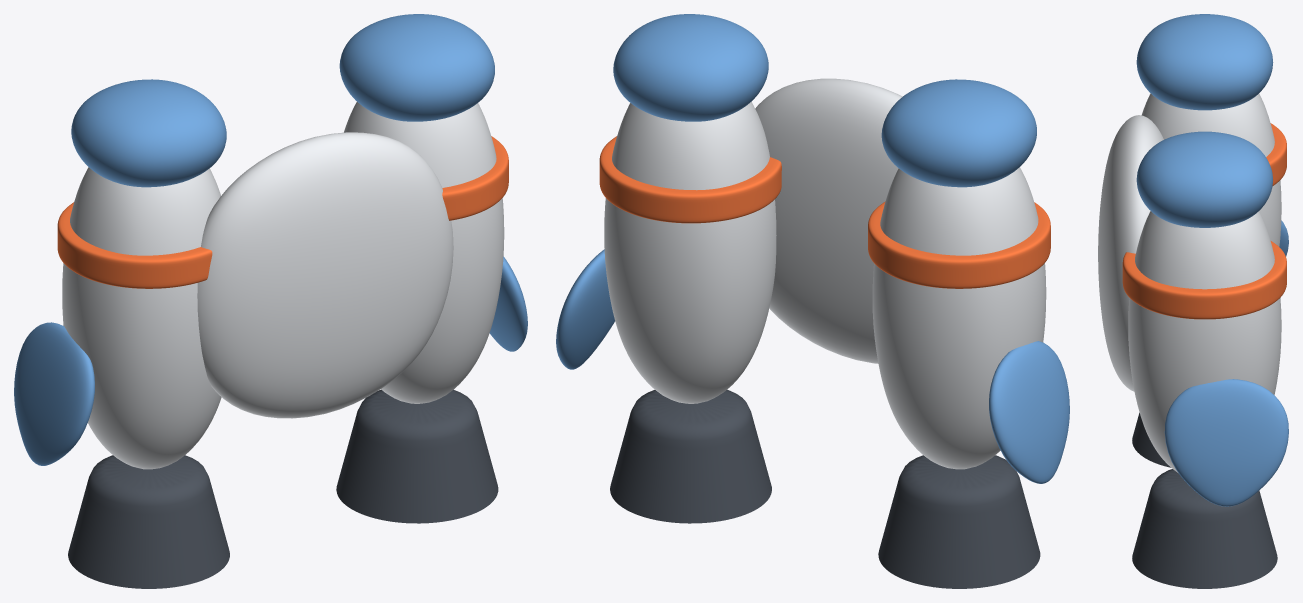
The model's file is jetpack.glb.
3 renders of one model, left to right at view 1: azimuth 30°, elevation 25°; view 2: azimuth 150°, elevation 25°; view 3: azimuth 270°, elevation 25°, orthographic. The views are drawn at different scales.
Visible parts, largest first — view 1: ACC_jetpack_plate, ACC_jetpack_tank_L, ACC_jetpack_noz_R, ACC_jetpack_noz_L, ACC_jetpack_tank_R, ACC_jetpack_cap_L, ACC_jetpack_cap_R, ACC_jetpack_fin_L, ACC_jetpack_stripe_L, ACC_jetpack_stripe_R, ACC_jetpack_fin_R; view 2: ACC_jetpack_tank_R, ACC_jetpack_tank_L, ACC_jetpack_plate, ACC_jetpack_noz_R, ACC_jetpack_noz_L, ACC_jetpack_cap_R, ACC_jetpack_cap_L, ACC_jetpack_fin_L, ACC_jetpack_stripe_L, ACC_jetpack_stripe_R, ACC_jetpack_fin_R; view 3: ACC_jetpack_tank_R, ACC_jetpack_fin_R, ACC_jetpack_noz_R, ACC_jetpack_cap_L, ACC_jetpack_cap_R, ACC_jetpack_plate, ACC_jetpack_stripe_R, ACC_jetpack_tank_L, ACC_jetpack_stripe_L, ACC_jetpack_noz_L.
Boxes of the visible parts, x1=… form: ACC_jetpack_plate: x1=197, y1=132, x2=453, y2=418; ACC_jetpack_tank_L: x1=62, y1=167, x2=221, y2=469; ACC_jetpack_noz_R: x1=336, y1=389, x2=498, y2=523; ACC_jetpack_noz_L: x1=68, y1=455, x2=229, y2=588; ACC_jetpack_tank_R: x1=344, y1=102, x2=504, y2=403; ACC_jetpack_cap_L: x1=71, y1=79, x2=226, y2=187; ACC_jetpack_cap_R: x1=339, y1=14, x2=494, y2=121; ACC_jetpack_fin_L: x1=14, y1=322, x2=94, y2=465; ACC_jetpack_stripe_L: x1=57, y1=202, x2=212, y2=288; ACC_jetpack_stripe_R: x1=442, y1=136, x2=508, y2=220; ACC_jetpack_fin_R: x1=489, y1=256, x2=527, y2=351; ACC_jetpack_tank_R: x1=604, y1=102, x2=776, y2=403; ACC_jetpack_tank_L: x1=872, y1=167, x2=1046, y2=469; ACC_jetpack_plate: x1=755, y1=78, x2=902, y2=363; ACC_jetpack_noz_R: x1=610, y1=389, x2=771, y2=523; ACC_jetpack_noz_L: x1=878, y1=455, x2=1040, y2=588; ACC_jetpack_cap_R: x1=613, y1=14, x2=768, y2=121; ACC_jetpack_cap_L: x1=881, y1=79, x2=1036, y2=187; ACC_jetpack_fin_L: x1=989, y1=341, x2=1069, y2=483; ACC_jetpack_stripe_L: x1=868, y1=201, x2=1050, y2=288; ACC_jetpack_stripe_R: x1=599, y1=136, x2=781, y2=223; ACC_jetpack_fin_R: x1=556, y1=249, x2=614, y2=369; ACC_jetpack_tank_R: x1=1128, y1=211, x2=1281, y2=472; ACC_jetpack_fin_R: x1=1164, y1=379, x2=1288, y2=506; ACC_jetpack_noz_R: x1=1132, y1=469, x2=1277, y2=588; ACC_jetpack_cap_L: x1=1136, y1=14, x2=1273, y2=110; ACC_jetpack_cap_R: x1=1136, y1=131, x2=1272, y2=227; ACC_jetpack_plate: x1=1098, y1=115, x2=1163, y2=391; ACC_jetpack_stripe_R: x1=1122, y1=241, x2=1286, y2=319; ACC_jetpack_tank_L: x1=1141, y1=93, x2=1281, y2=246; ACC_jetpack_stripe_L: x1=1266, y1=123, x2=1286, y2=185; ACC_jetpack_noz_L: x1=1132, y1=412, x2=1170, y2=467.
Size of the model in its own units: 0.6718 by 0.626 by 0.2608.
